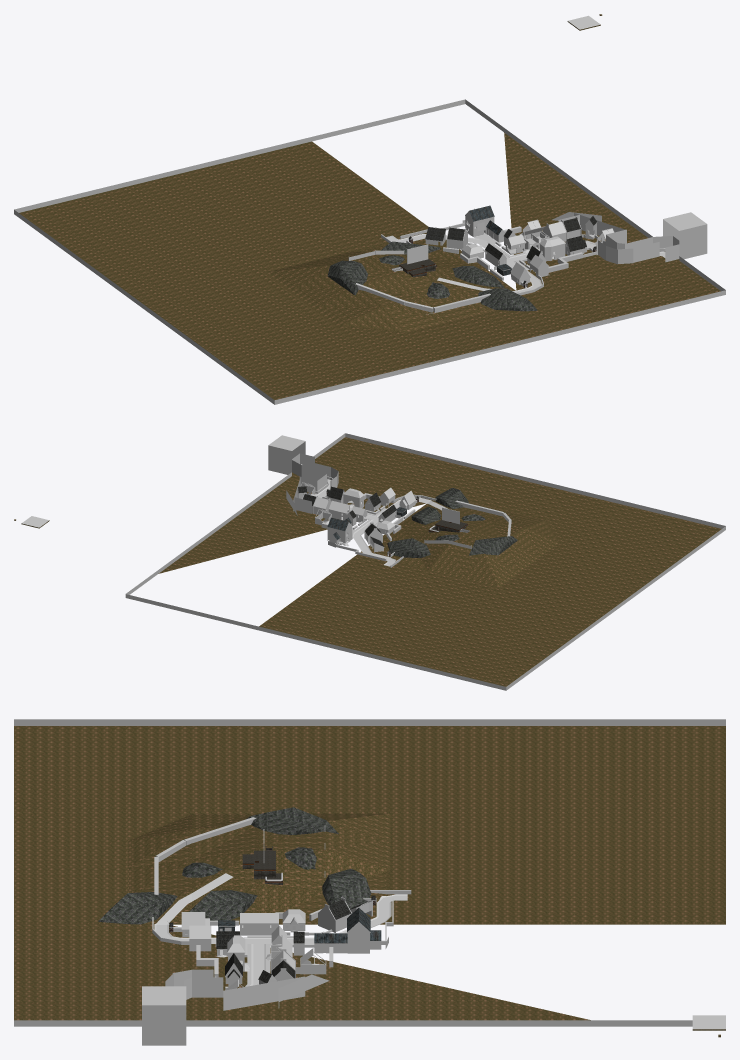
The model's file is Radar.dae.
The picture shows the model from 3 angles, top to bottom: view 1: azimuth 30°, elevation 25°; view 2: azimuth 150°, elevation 25°; view 3: azimuth 270°, elevation 25°; orthographic projection. The views are drawn at different scales.
Visible parts, largest first — view 1: BSP.003; view 2: BSP.003; view 3: BSP.003.
Part boxes in pixels (<box>): BSP.003: <box>14,14,725,404</box>; BSP.003: <box>14,433,725,690</box>; BSP.003: <box>14,719,725,1045</box>.
Size of the model in its own units: 26560 by 20480 by 2570.
